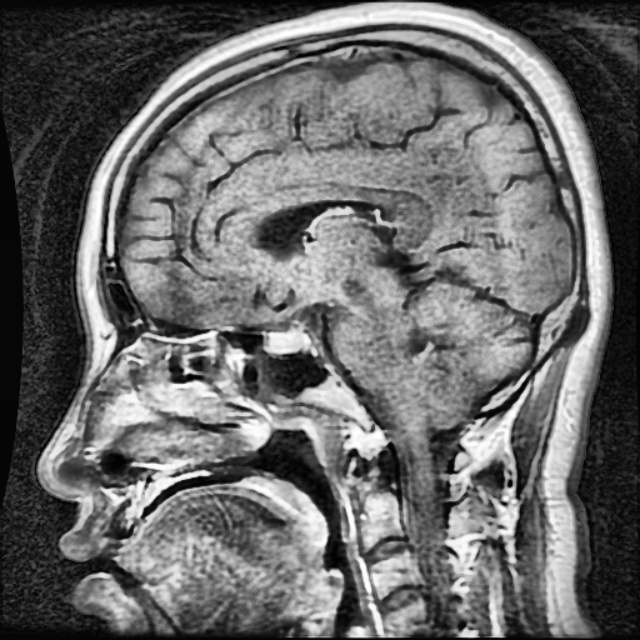Pituitary: (264, 327, 309, 354)
